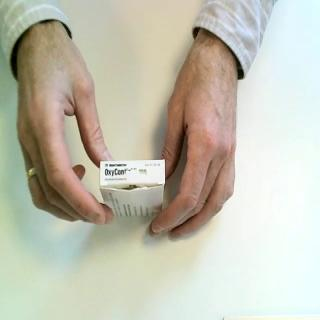oxycontin5mg: (99, 159, 167, 221)
